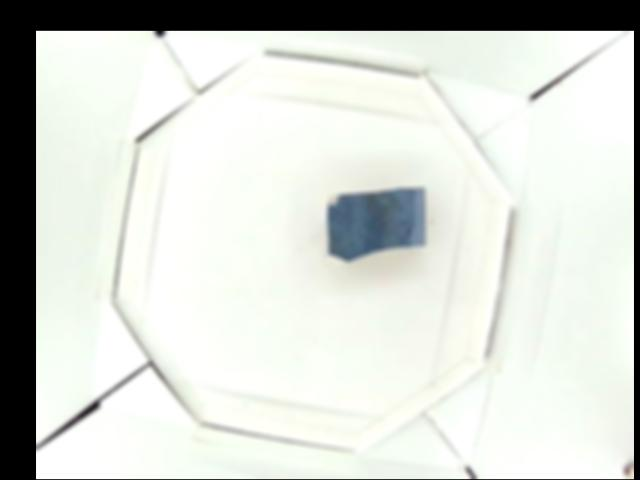China: (327, 184, 427, 262)
